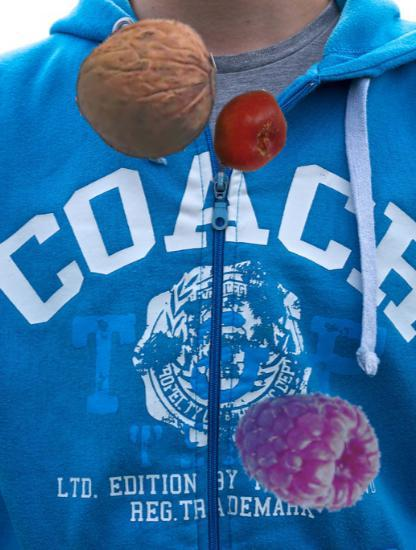Nectarine: (208, 89, 293, 174)
Raspberry: (234, 379, 383, 528)
Walnut: (76, 18, 221, 163)
